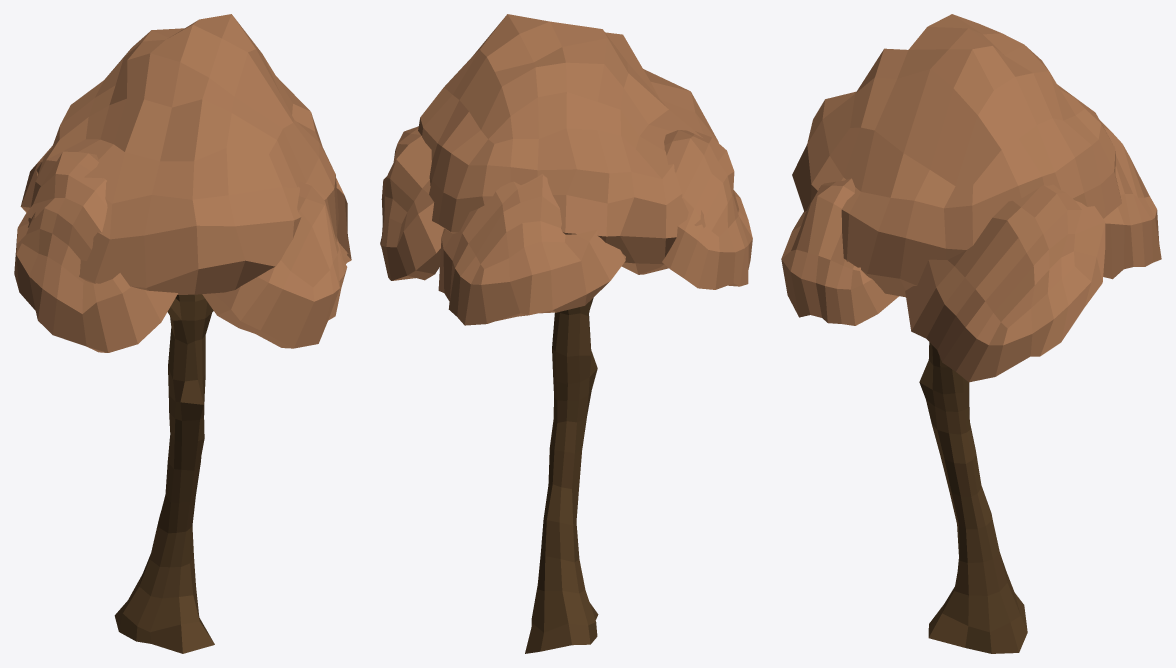
The model's file is arv6.fbx.
3 views of the same model, side by side, from view 1: azimuth 30°, elevation 25°; view 2: azimuth 150°, elevation 25°; view 3: azimuth 270°, elevation 25° (orthographic).
Parts seen in each view (by area): view 1: arvore7:arvore7; view 2: arvore7:arvore7; view 3: arvore7:arvore7.
Part boxes in pixels (box(x1,y1,x2,y2)): arvore7:arvore7: box(14, 14, 351, 653); arvore7:arvore7: box(380, 14, 752, 653); arvore7:arvore7: box(781, 14, 1161, 653).
Size of the model in its own units: 49.83 by 89.58 by 49.45.
